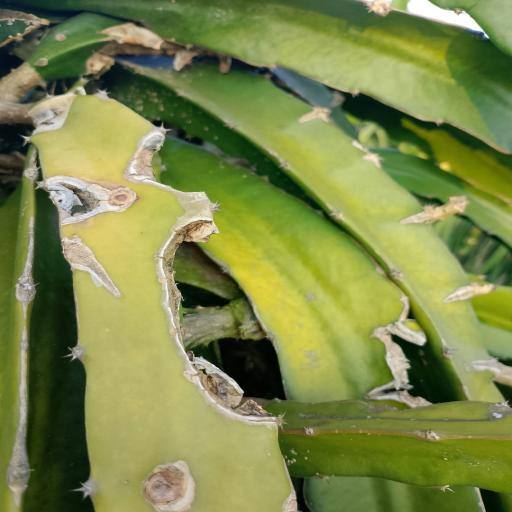stemcanker: (282, 443, 316, 471), (440, 447, 482, 468), (484, 410, 508, 425), (116, 472, 132, 487), (263, 446, 275, 460), (286, 448, 299, 456), (264, 450, 276, 458), (121, 478, 130, 488), (286, 458, 298, 464), (347, 424, 361, 429), (302, 455, 310, 463), (442, 457, 449, 463)
